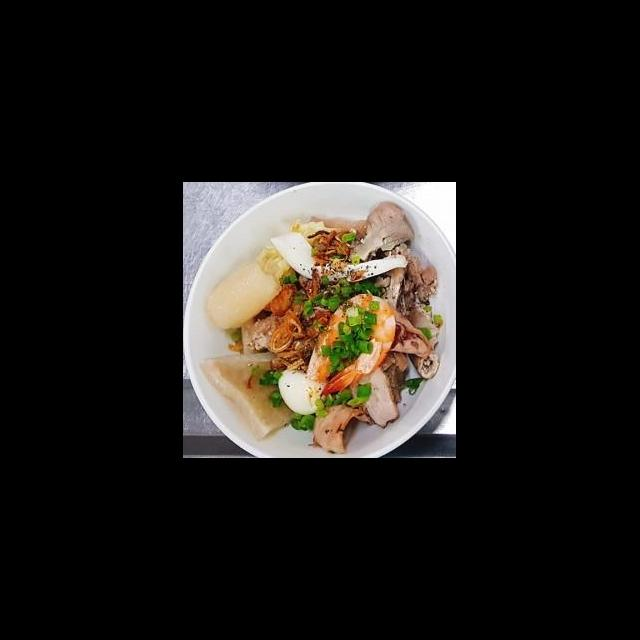muc: (226, 353, 372, 411)
thit heo: (236, 208, 298, 285)
tom: (240, 236, 336, 351)
trung: (308, 222, 366, 273)
